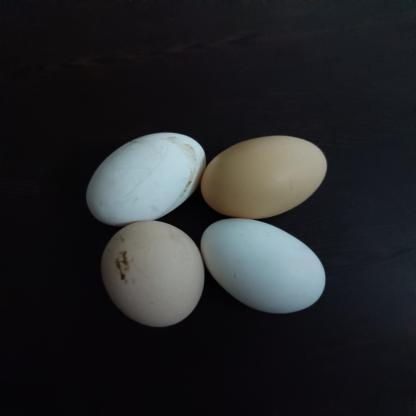egg: (80, 118, 209, 228), (188, 216, 328, 311), (104, 216, 209, 336), (206, 127, 333, 222)
